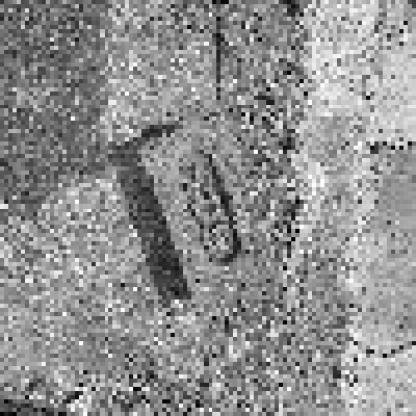brick: (110, 101, 290, 315)
